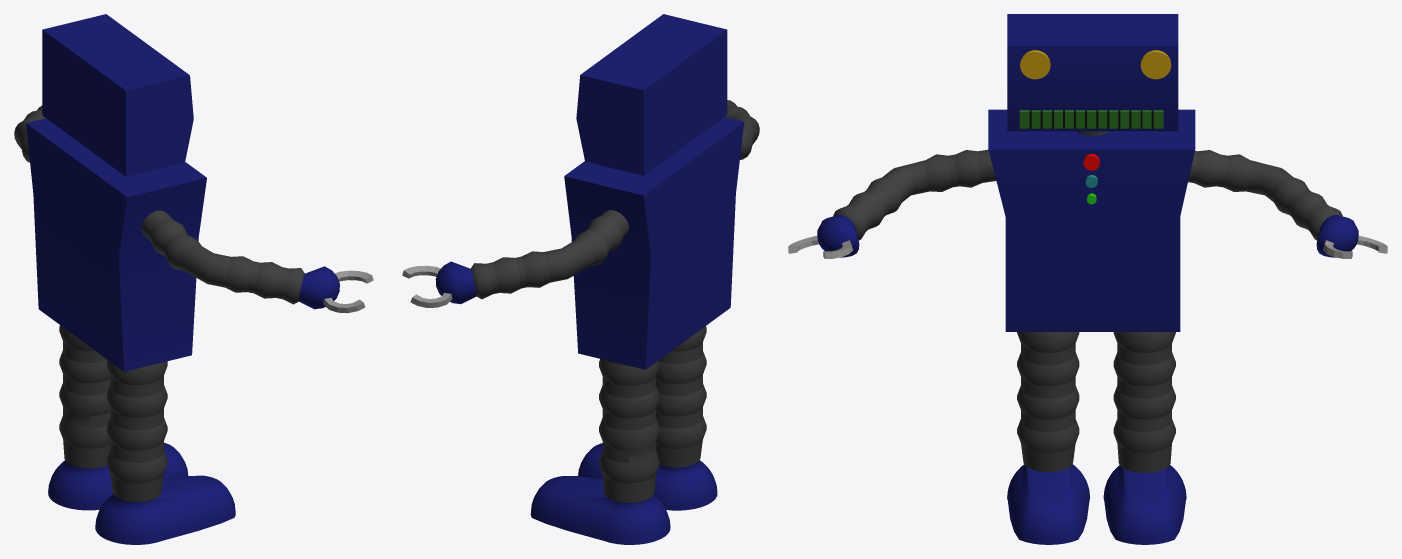
The model's file is RobotCharacter.FBX.
3 renders of one model, left to right at view 1: azimuth 30°, elevation 25°; view 2: azimuth 150°, elevation 25°; view 3: azimuth 270°, elevation 25°, orthographic. The views are drawn at different scales.
Visible parts, largest first — view 1: Robot; view 2: Robot; view 3: Robot.
Boxes of the visible parts, box(x1,y1,x2,y2) form: Robot: box(14, 14, 373, 544); Robot: box(402, 14, 759, 544); Robot: box(788, 14, 1387, 544).
Bounding box in the file's own units: 51.53 × 136 × 158.
